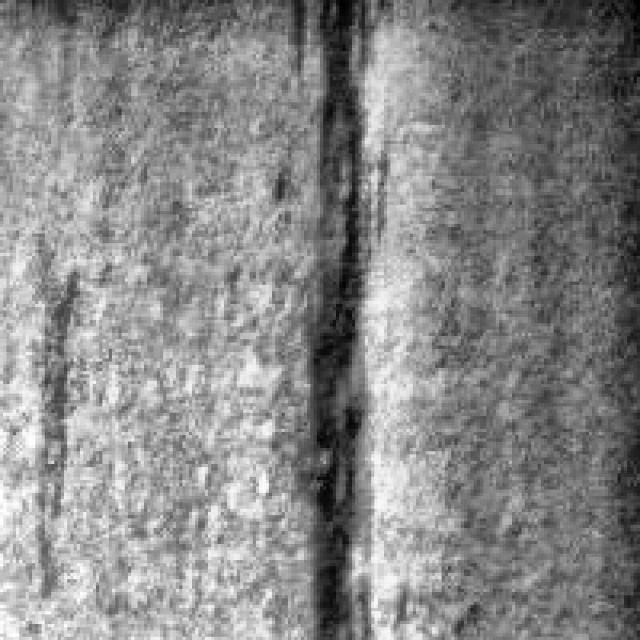Patches: (285, 0, 397, 627)
